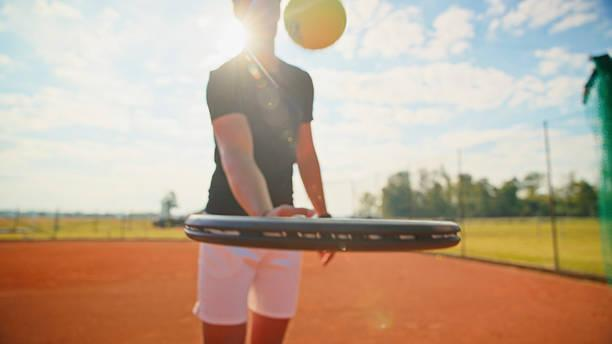ball_tennis: (283, 0, 347, 51)
